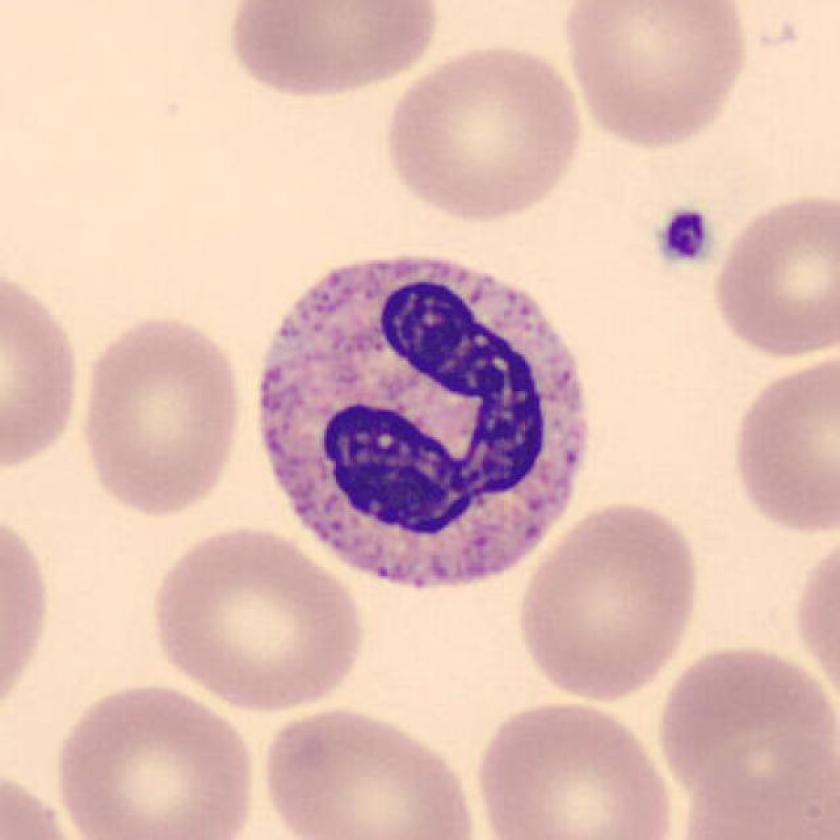neutrophil: (261, 263, 586, 587)
